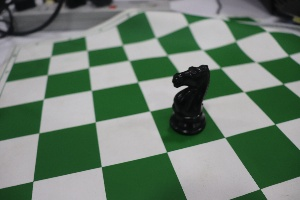black_horse: (160, 48, 214, 140)
